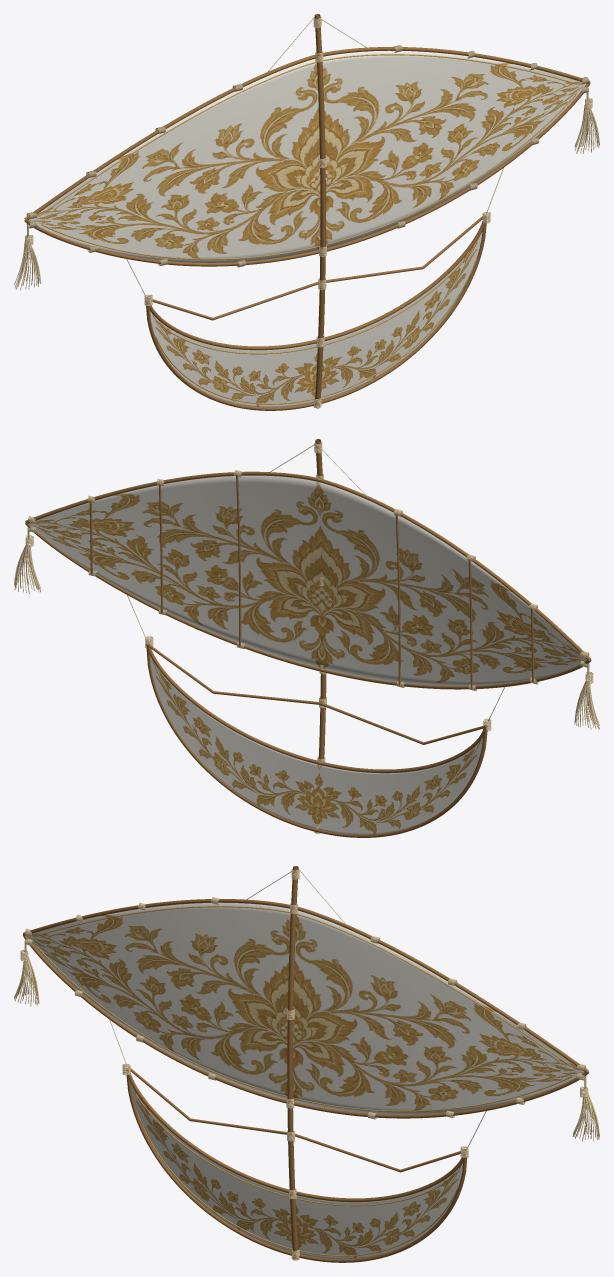
The model's file is wau-bulan.glb.
The picture shows the model from 3 angles, top to bottom: view 1: azimuth 30°, elevation 25°; view 2: azimuth 150°, elevation 25°; view 3: azimuth 330°, elevation 25°; orthographic projection.
Visible parts, largest first — view 1: Wau web • Ivory paper • gold floral image, Wau web • Bamboo • warm honey, Wau web • Antique gold • floral paper inlay, Wau web • Natural flax • lashings, Wau web • Ivory silk • tassels; view 2: Wau web • Ivory paper • gold floral image, Wau web • Bamboo • warm honey, Wau web • Natural flax • lashings, Wau web • Ivory silk • tassels, Wau web • Antique gold • floral paper inlay; view 3: Wau web • Ivory paper • gold floral image, Wau web • Bamboo • warm honey, Wau web • Antique gold • floral paper inlay, Wau web • Natural flax • lashings, Wau web • Ivory silk • tassels.
Boxes of the visible parts, x1=… form: Wau web • Ivory paper • gold floral image: x1=25, y1=50, x2=585, y2=407; Wau web • Bamboo • warm honey: x1=24, y1=14, x2=590, y2=410; Wau web • Antique gold • floral paper inlay: x1=16, y1=54, x2=599, y2=404; Wau web • Natural flax • lashings: x1=25, y1=16, x2=592, y2=408; Wau web • Ivory silk • tassels: x1=14, y1=105, x2=599, y2=290; Wau web • Ivory paper • gold floral image: x1=29, y1=475, x2=589, y2=834; Wau web • Bamboo • warm honey: x1=25, y1=439, x2=591, y2=837; Wau web • Natural flax • lashings: x1=25, y1=441, x2=593, y2=833; Wau web • Ivory silk • tassels: x1=14, y1=545, x2=599, y2=729; Wau web • Antique gold • floral paper inlay: x1=14, y1=545, x2=599, y2=729; Wau web • Ivory paper • gold floral image: x1=27, y1=902, x2=587, y2=1259; Wau web • Bamboo • warm honey: x1=23, y1=866, x2=588, y2=1262; Wau web • Antique gold • floral paper inlay: x1=14, y1=906, x2=599, y2=1256; Wau web • Natural flax • lashings: x1=20, y1=868, x2=588, y2=1259; Wau web • Ivory silk • tassels: x1=14, y1=957, x2=599, y2=1141.
Bounding box in the file's own units: 6.23 × 4 × 0.4083.
Materials: 5 (1 with a texture image).
